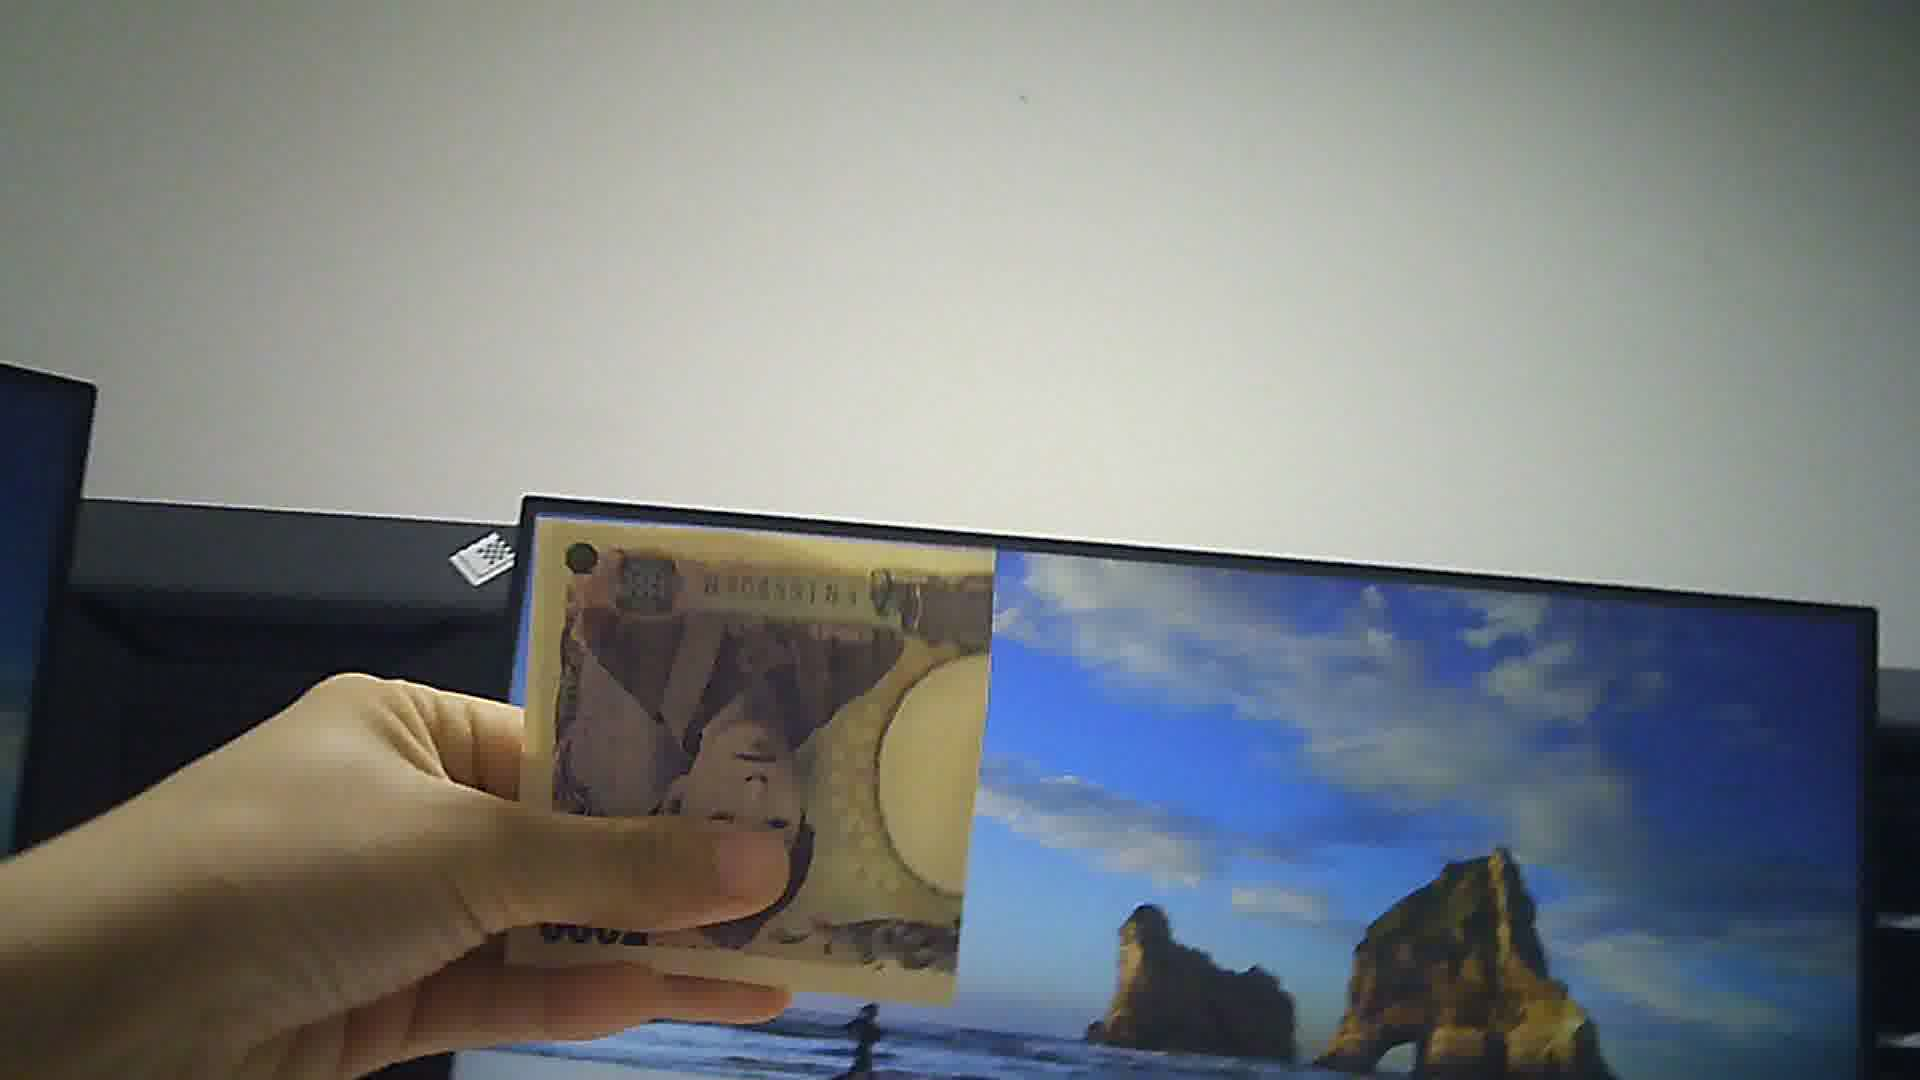5,000 Yen: (491, 508, 1001, 1000)
